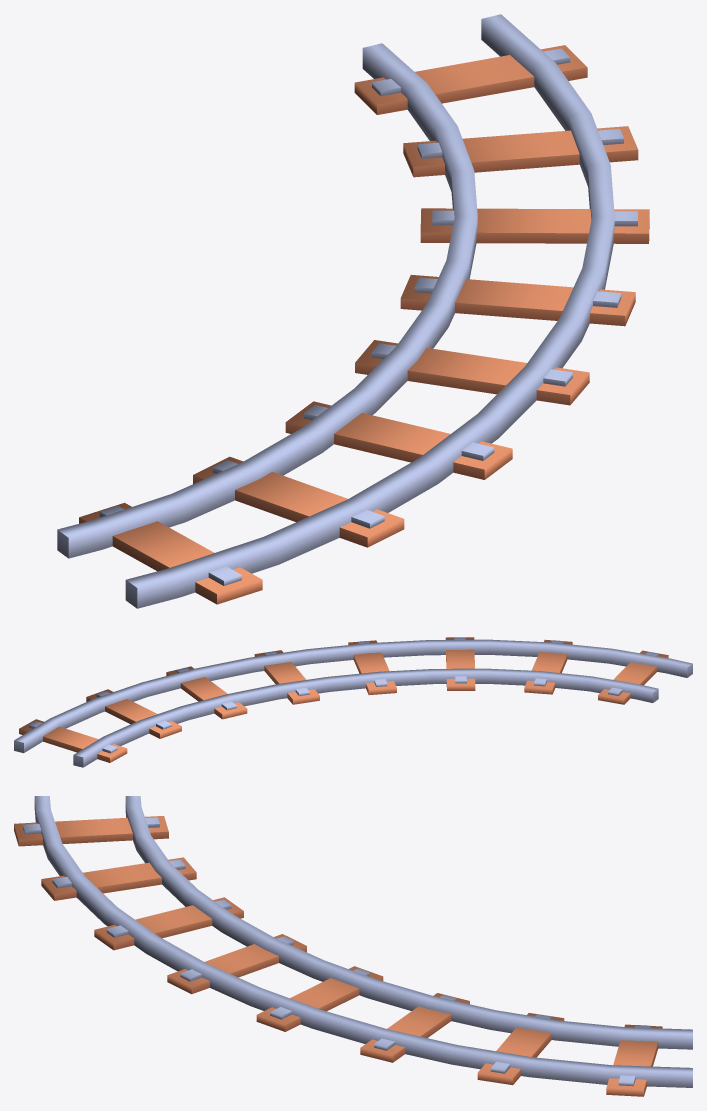
Rendered from kenney-train-railroad-corner-large.glb.
The picture shows the model from 3 angles, top to bottom: view 1: azimuth 30°, elevation 25°; view 2: azimuth 150°, elevation 25°; view 3: azimuth 270°, elevation 25°; orthographic projection. The views are drawn at different scales.
Parts seen in each view (by area): view 1: railroad-corner-large; view 2: railroad-corner-large; view 3: railroad-corner-large.
Part boxes in pixels (<box>): railroad-corner-large: <box>57,14,649,608</box>; railroad-corner-large: <box>14,637,692,767</box>; railroad-corner-large: <box>14,796,692,1096</box>.
Size of the model in its own units: 4.49 by 0.1002 by 4.49.
1 material, 1 textured.
